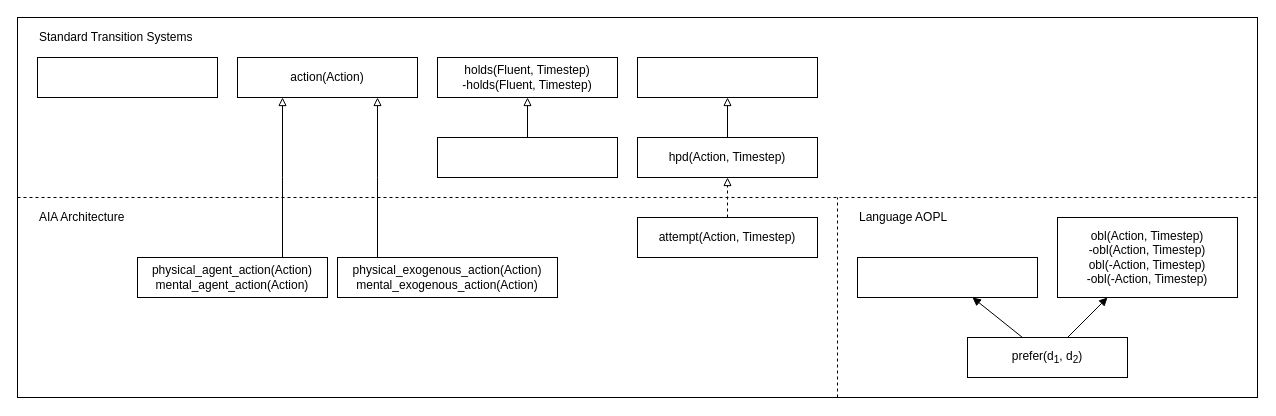
Image size: 1276x416. Some labels were removed from this diagram. Each missing label, with the box of its shape:
fluent(inertial, Fluent) fluent(defined, Fluent): (36, 56, 218, 98)
obs(Fluent, Timestep) -obs(Fluent, Timestep): (436, 136, 618, 178)
occurs(Action, Timestep) -occurs(Action, Timestep): (636, 56, 818, 98)
permitted(Action, Timestep) -permitted(Action, Timestep): (856, 256, 1038, 298)
